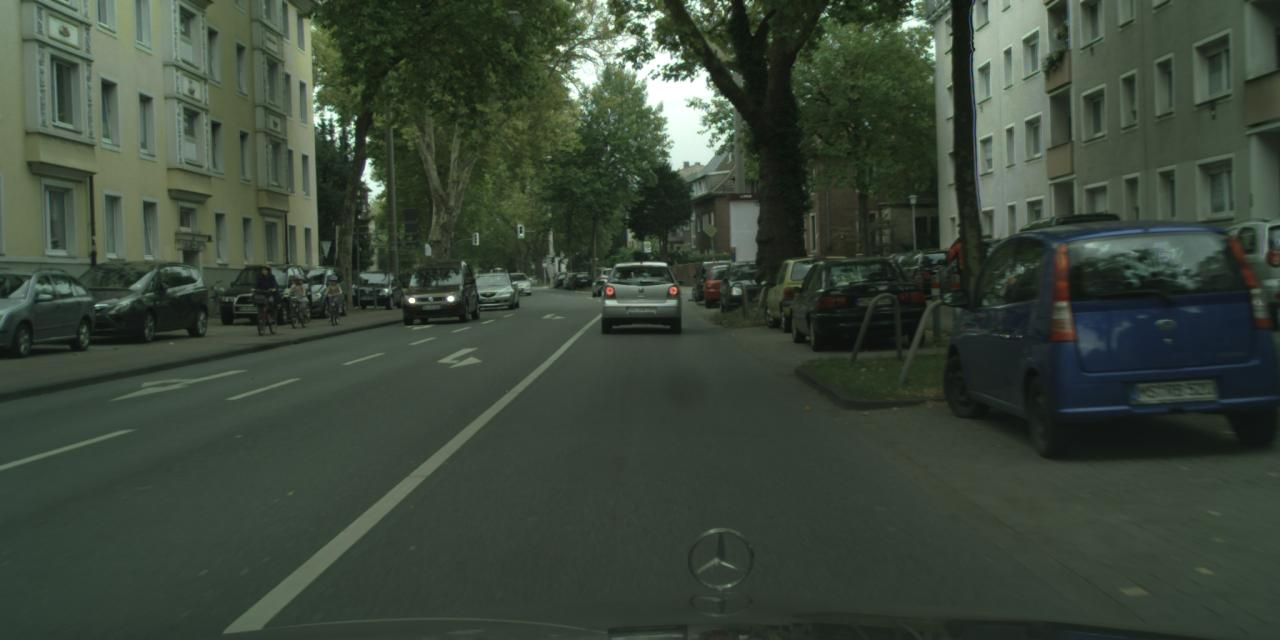ped: (951, 219, 998, 334), (254, 264, 279, 324), (290, 274, 308, 322), (326, 274, 342, 316)
